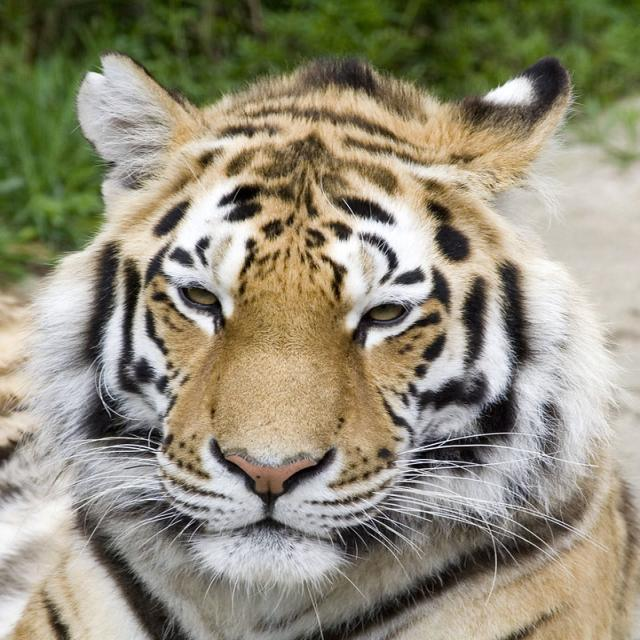Tiger: (20, 46, 619, 640)
